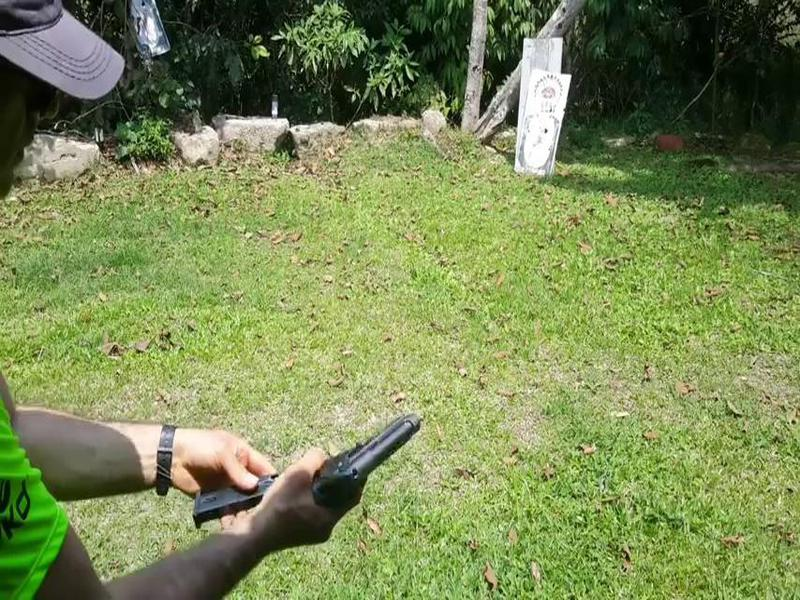Pistola: (296, 401, 427, 518)
